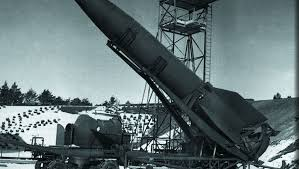ten_lua: (80, 1, 265, 155)
